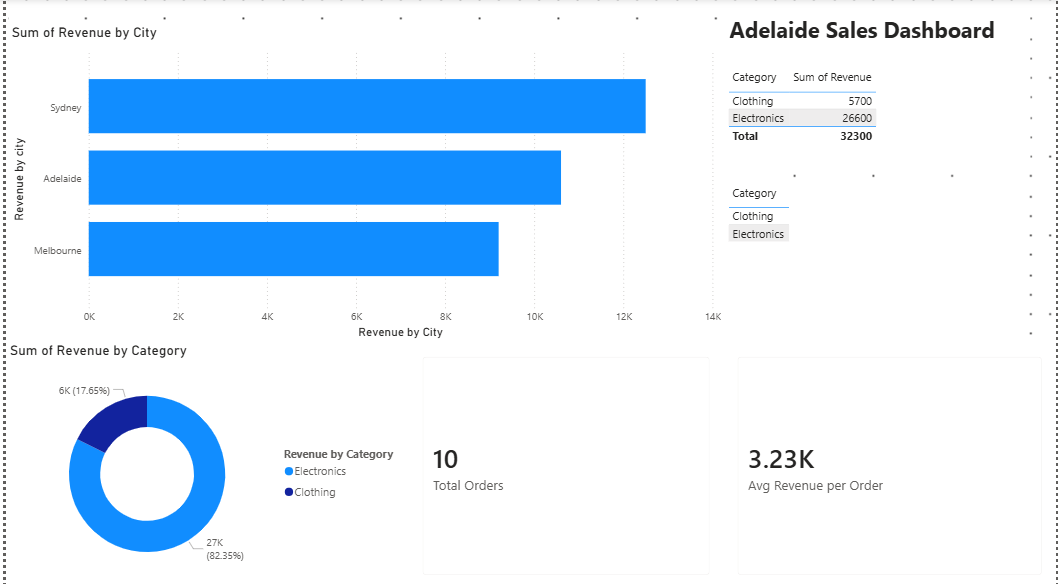

Layout of this report page (visuals, bound fields, positions):
{"tool":"powerbi","page":{"name":"Page 1","canvas":[1280,720],"ordinal":0},"visuals":[{"type":"clusteredBarChart","fields":{"Category":["Sheet1.City"],"Y":["Sum(Sheet1.Revenue)"]},"box":[2,32,874,388],"z":0},{"type":"donutChart","fields":{"Category":["Sheet1.Category"],"Y":["Sum(Sheet1.Revenue)"]},"box":[0,388,490,332],"z":1000},{"type":"tableEx","fields":{"Values":["Sheet1.Category","Sum(Sheet1.Revenue)"]},"box":[874,80,374,114],"z":2000},{"type":"cardVisual","fields":{"Data":["Sheet1.Avg Revenue per Order"]},"box":[790,420,490,300],"z":2001},{"type":"cardVisual","fields":{"Data":["Sheet1.Total Orders"]},"box":[490,388,412,332],"z":2002},{"type":"textbox","box":[876,14,372,66],"z":2003},{"type":"tableEx","fields":{"Values":["Sheet1.Category"]},"box":[876,194,372,198],"z":2004}]}

Visuals, with their boxes in screenshot pixels (x1, y1, x2, y2), scaled from the page's 1280x720 canvas onto the 1058x584 screenshot:
clusteredBarChart - Sheet1.City x Sum(Sheet1.Revenue): box(2, 26, 724, 341)
donutChart - Sheet1.Category x Sum(Sheet1.Revenue): box(0, 315, 405, 583)
tableEx - Sheet1.Category x Sum(Sheet1.Revenue): box(722, 65, 1032, 157)
cardVisual - Sheet1.Avg Revenue per Order: box(653, 341, 1057, 583)
cardVisual - Sheet1.Total Orders: box(405, 315, 746, 583)
textbox: box(724, 11, 1032, 65)
tableEx - Sheet1.Category: box(724, 157, 1032, 318)
